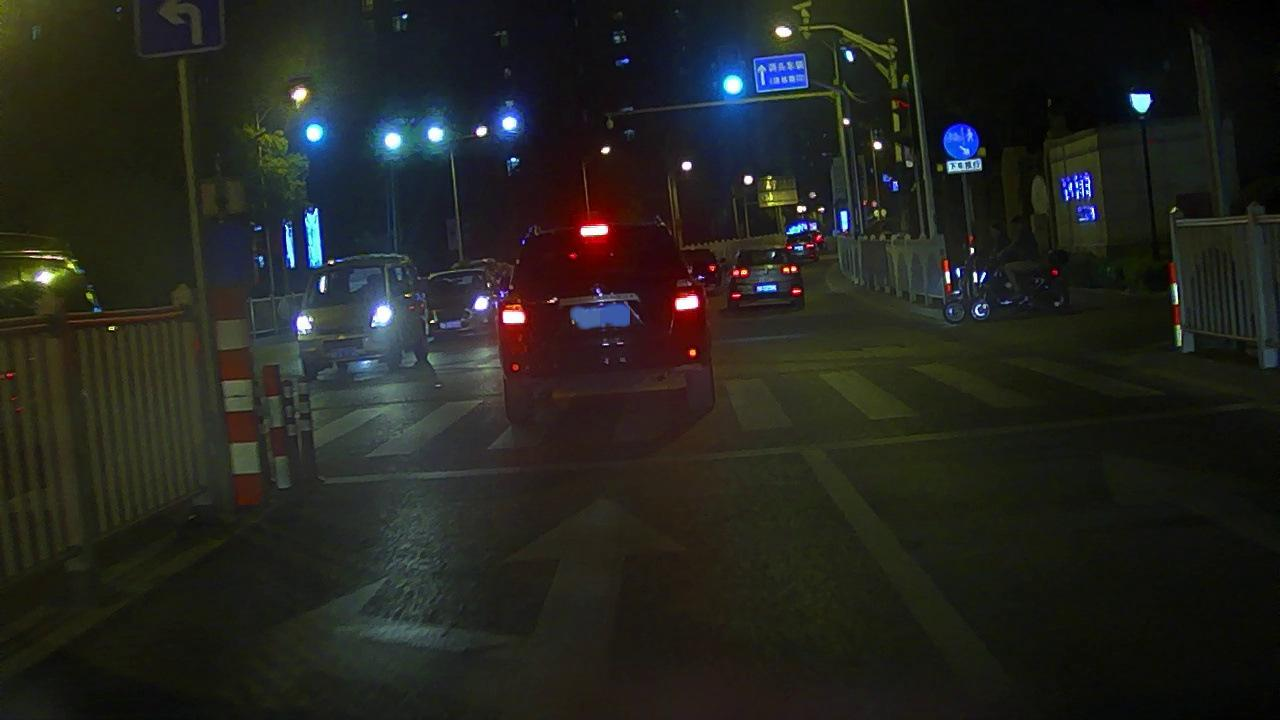traffic_light: (717, 52, 745, 101)
